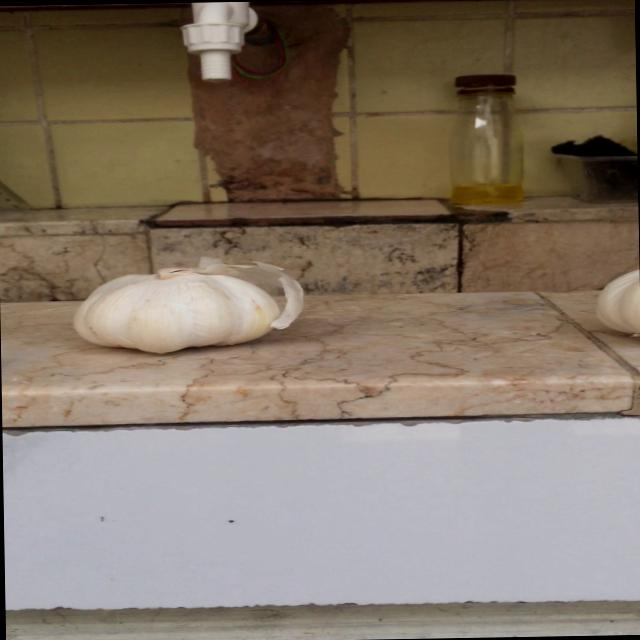bawang: (70, 252, 308, 358)
